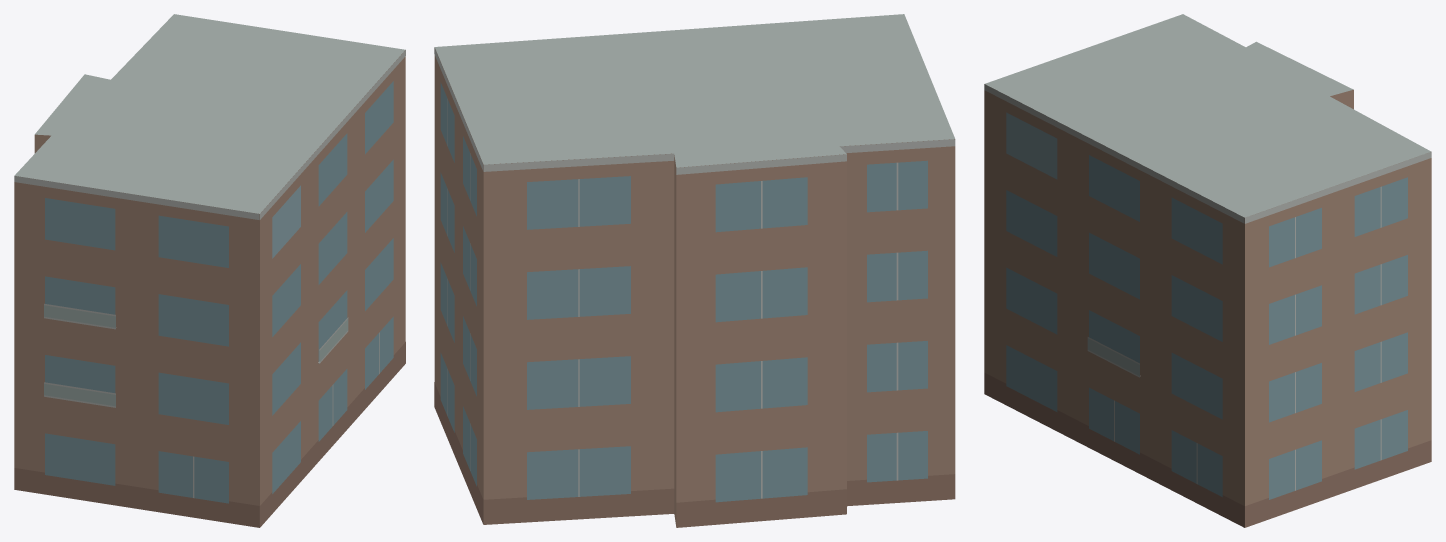
Rendered from survey-upis-32724431.glb.
The picture shows the model from 3 angles, left to right: view 1: azimuth 30°, elevation 25°; view 2: azimuth 150°, elevation 25°; view 3: azimuth 270°, elevation 25°; orthographic projection. The views are drawn at different scales.
Parts seen in each view (by area): view 1: survey-upis-32724431.tmp; view 2: survey-upis-32724431.tmp; view 3: survey-upis-32724431.tmp.
Part boxes in pixels (<box>): survey-upis-32724431.tmp: <box>14,14,405,527</box>; survey-upis-32724431.tmp: <box>434,14,955,527</box>; survey-upis-32724431.tmp: <box>984,14,1431,527</box>.
Bounding box in the file's own units: 17.2 × 12.2 × 15.95.
